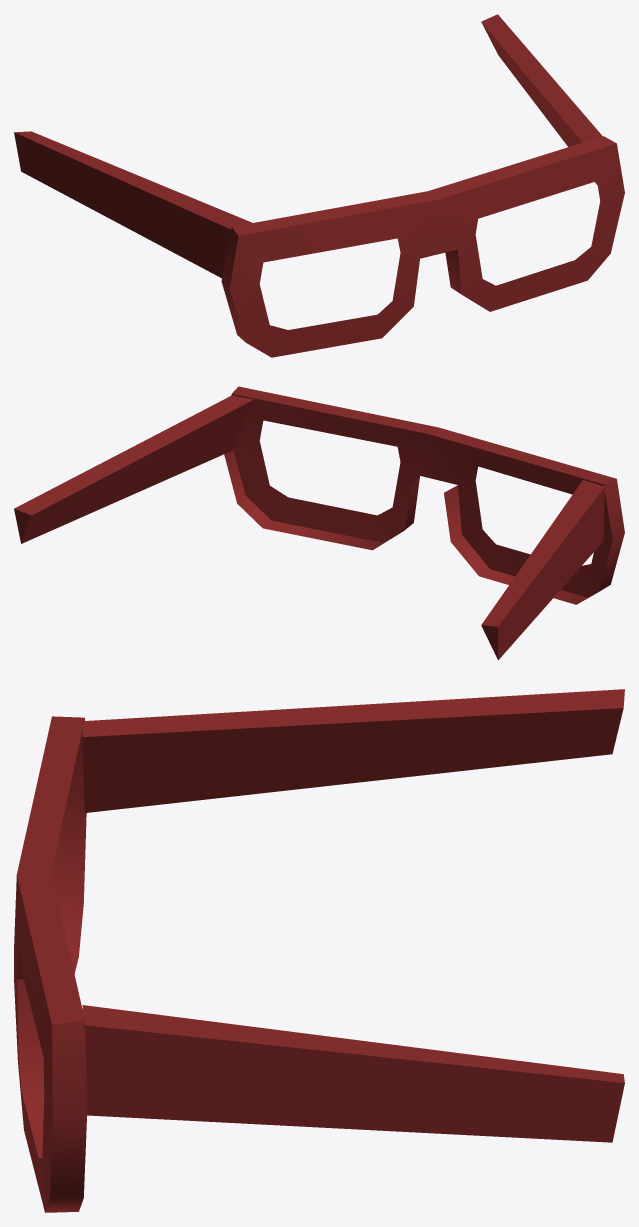
File: Male_Glasses_01_v2.fbx
3 views of the same model, one above another, from view 1: azimuth 30°, elevation 25°; view 2: azimuth 150°, elevation 25°; view 3: azimuth 270°, elevation 25° (orthographic). The views are drawn at different scales.
Visible parts, largest first — view 1: Male_Glasses_01_v2; view 2: Male_Glasses_01_v2; view 3: Male_Glasses_01_v2.
Part boxes in pixels (x1,y1,x2,y2): Male_Glasses_01_v2: (14,14,624,357); Male_Glasses_01_v2: (14,386,624,660); Male_Glasses_01_v2: (14,689,624,1212).
Size of the model in its own units: 56.11 by 14.43 by 36.78.
